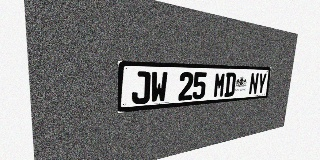2: (178, 72, 194, 101)
5: (192, 72, 207, 100)
D: (224, 72, 236, 97)
J: (131, 71, 151, 105)
M: (213, 72, 226, 98)
N: (248, 73, 259, 95)
W: (150, 71, 168, 103)
Y: (257, 73, 267, 94)
